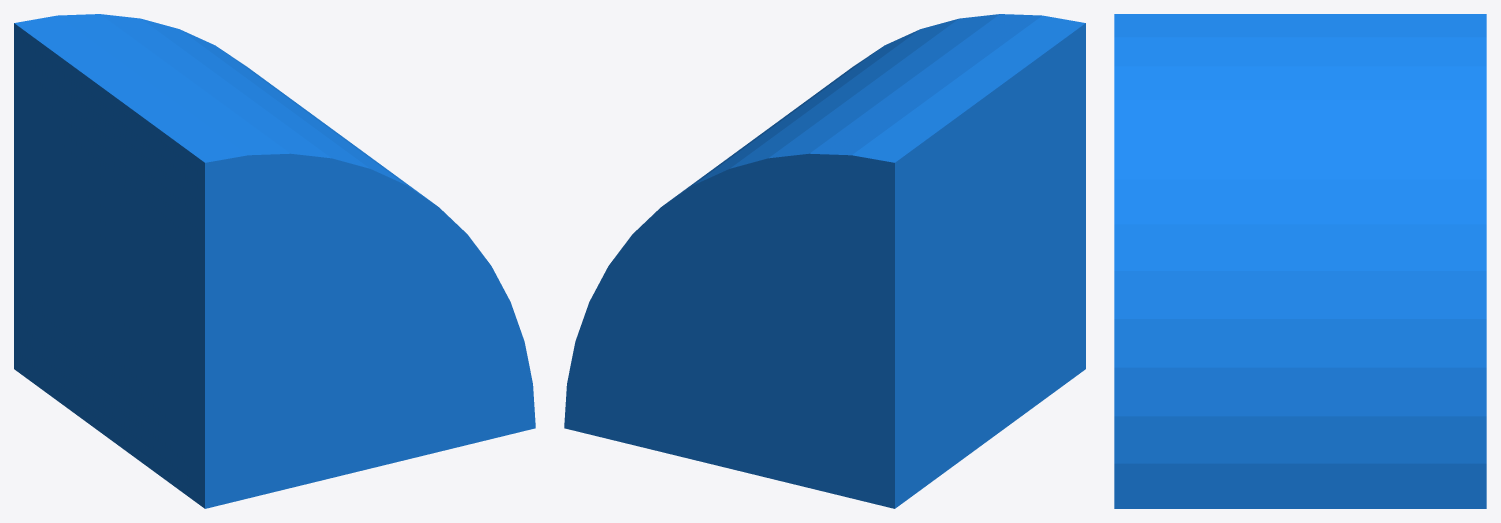
File: Proto_Block_Ramp_Round_Convex_01.fbx
3 renders of one model, left to right at view 1: azimuth 30°, elevation 25°; view 2: azimuth 150°, elevation 25°; view 3: azimuth 270°, elevation 25°, orthographic. The views are drawn at different scales.
Parts seen in each view (by area): view 1: Proto_Block_Ramp_Round_Convex_01; view 2: Proto_Block_Ramp_Round_Convex_01; view 3: Proto_Block_Ramp_Round_Convex_01.
Part boxes in pixels (left/top/right/bottom): Proto_Block_Ramp_Round_Convex_01: left=14, top=14, right=535, bottom=508; Proto_Block_Ramp_Round_Convex_01: left=564, top=14, right=1085, bottom=508; Proto_Block_Ramp_Round_Convex_01: left=1114, top=14, right=1486, bottom=508.
Bounding box in the file's own units: 1 × 1 × 1.
